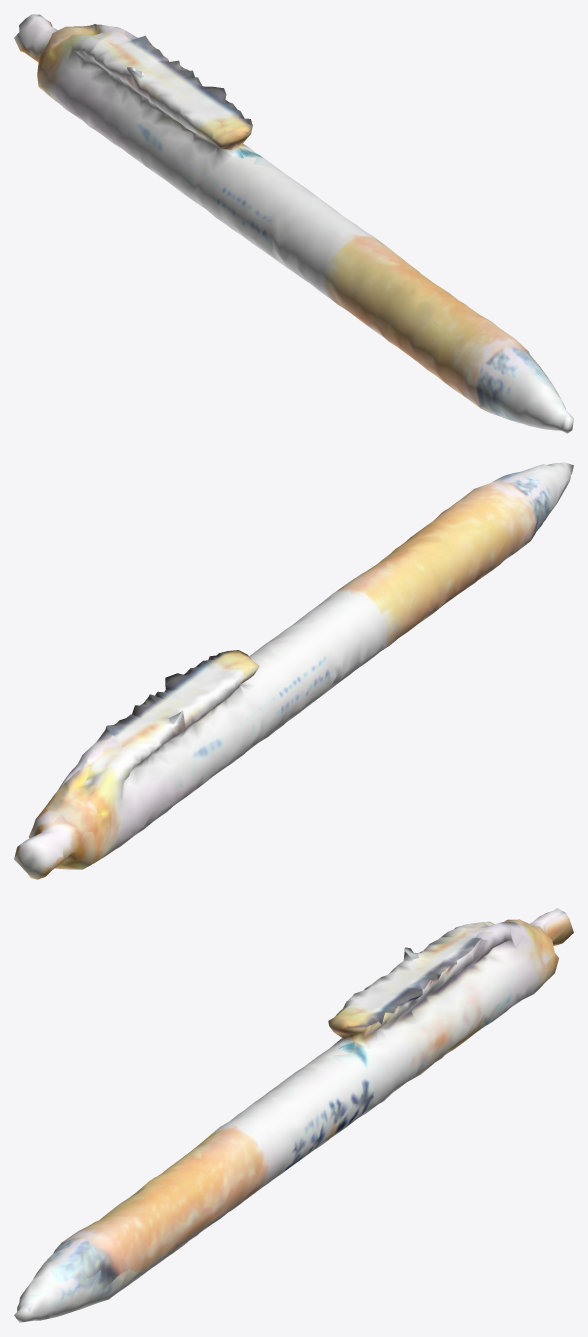
The model's file is scan_align.obj.
3 views of the same model, one above another, from view 1: azimuth 30°, elevation 25°; view 2: azimuth 150°, elevation 25°; view 3: azimuth 330°, elevation 25° (orthographic).
Size of the model in its own units: 0.0107 by 0.0154 by 0.1516.
Materials: 1 (1 with a texture image).
